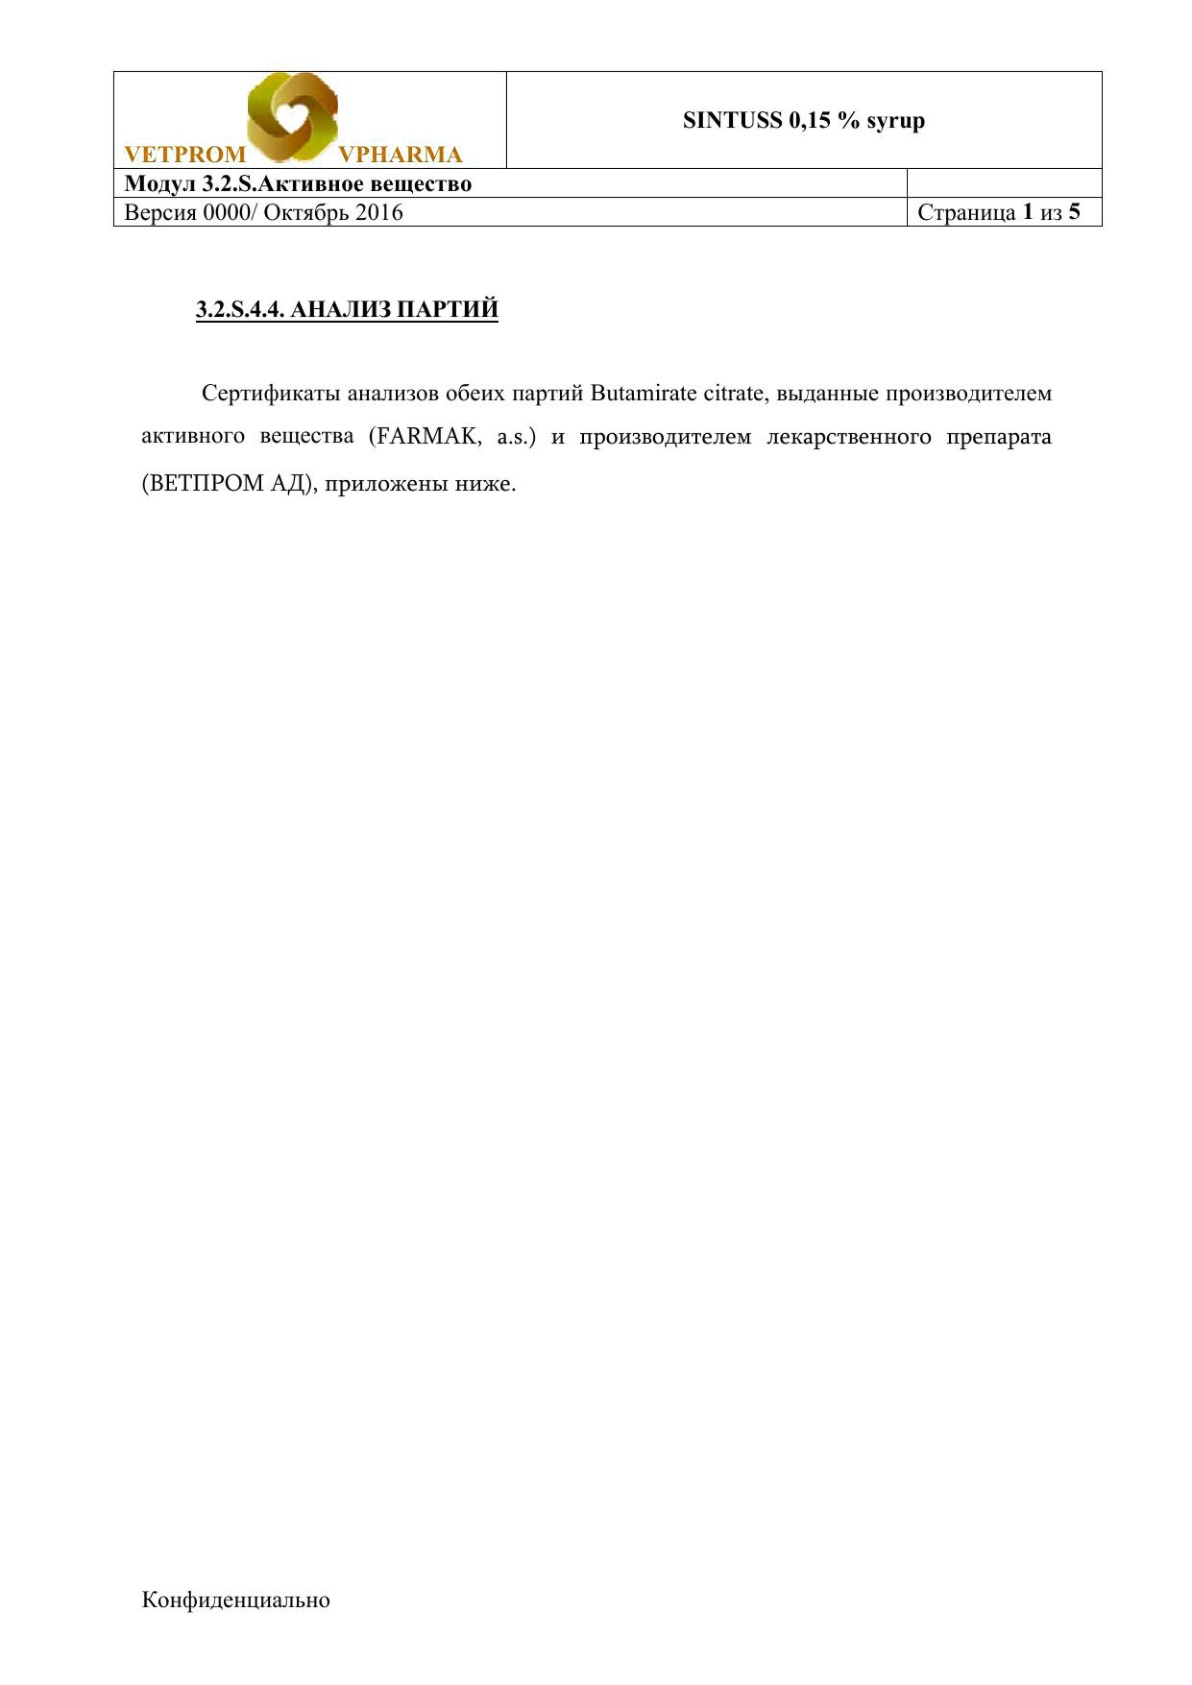merged_cells: (111, 68, 1103, 227)
